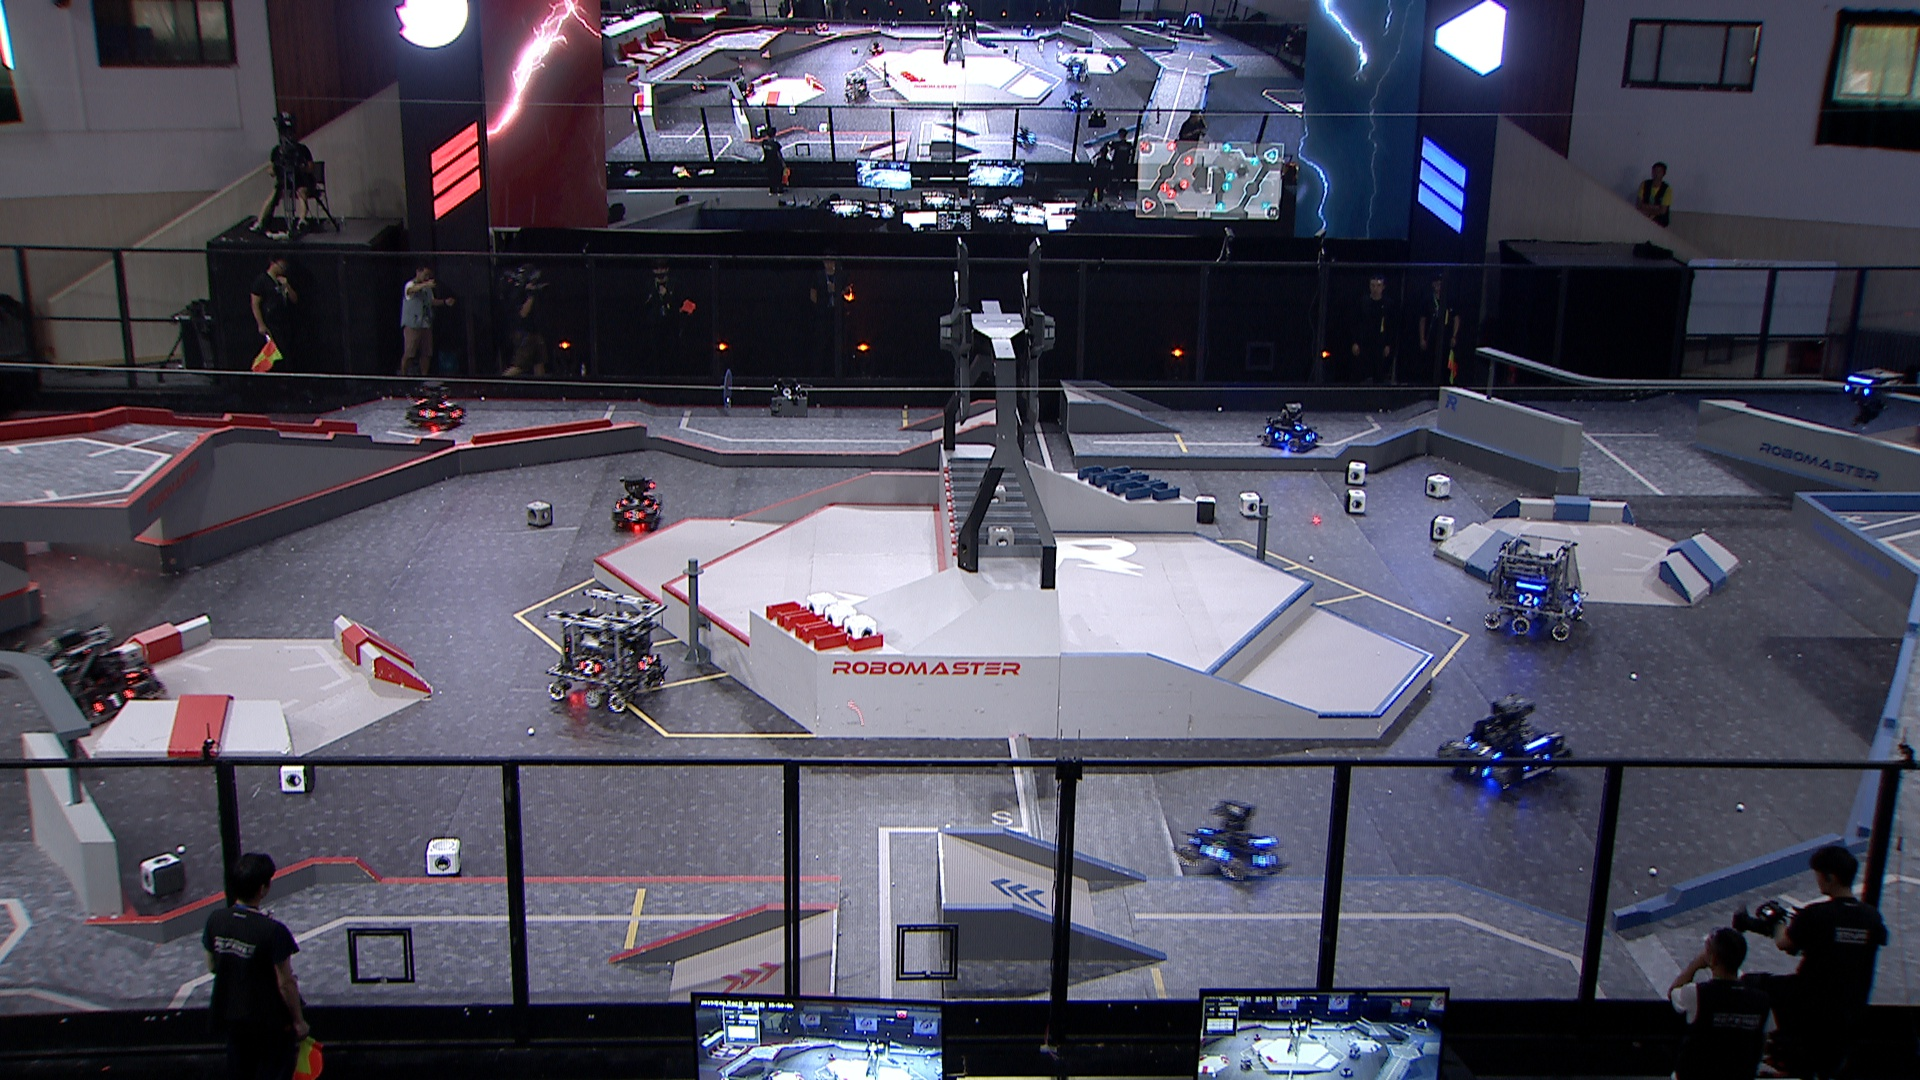armor: (91, 684, 135, 713), (1196, 840, 1233, 864), (1472, 738, 1501, 760), (1840, 380, 1870, 398), (1253, 851, 1280, 870), (1522, 752, 1552, 769), (633, 651, 655, 673), (575, 659, 603, 675), (117, 662, 140, 680), (417, 404, 438, 422), (1470, 761, 1490, 779), (1516, 591, 1538, 608), (618, 496, 647, 508), (622, 509, 646, 524), (436, 396, 458, 411), (1571, 585, 1585, 603), (1273, 429, 1290, 443), (447, 406, 465, 419), (1294, 419, 1311, 433), (1304, 429, 1317, 446)
car: (541, 589, 673, 713), (22, 618, 167, 731), (1441, 690, 1571, 794), (1480, 533, 1590, 641), (1178, 793, 1284, 880), (1258, 401, 1325, 454), (404, 380, 469, 431), (609, 473, 665, 534)
ignore: (839, 65, 870, 105), (724, 67, 756, 102), (1060, 57, 1091, 86), (1011, 124, 1039, 153), (1064, 84, 1091, 112), (1178, 11, 1205, 36), (1154, 12, 1172, 34), (690, 73, 708, 95), (868, 40, 885, 54)
watcher: (1836, 357, 1899, 429)
